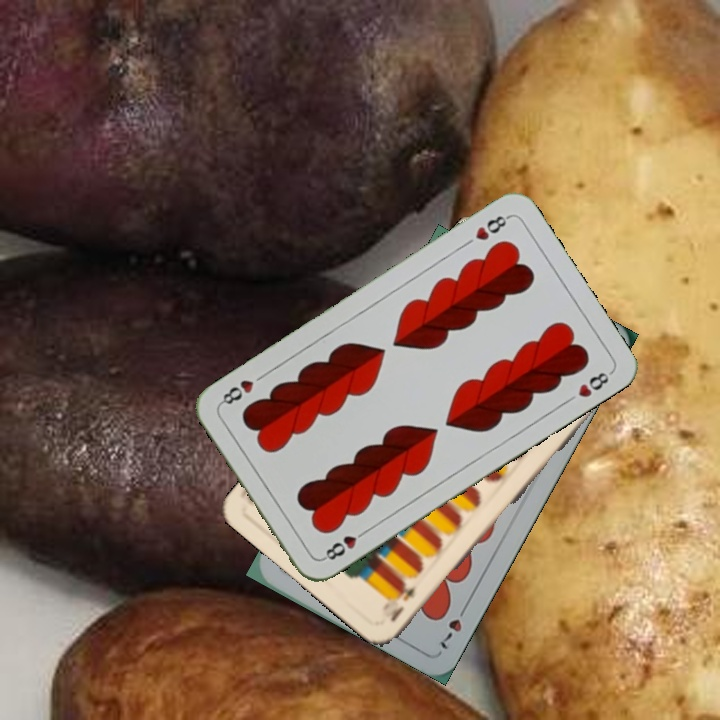E10: (386, 581, 420, 625)
H7: (436, 599, 471, 652)
H8: (318, 525, 371, 563), (471, 211, 513, 243)
